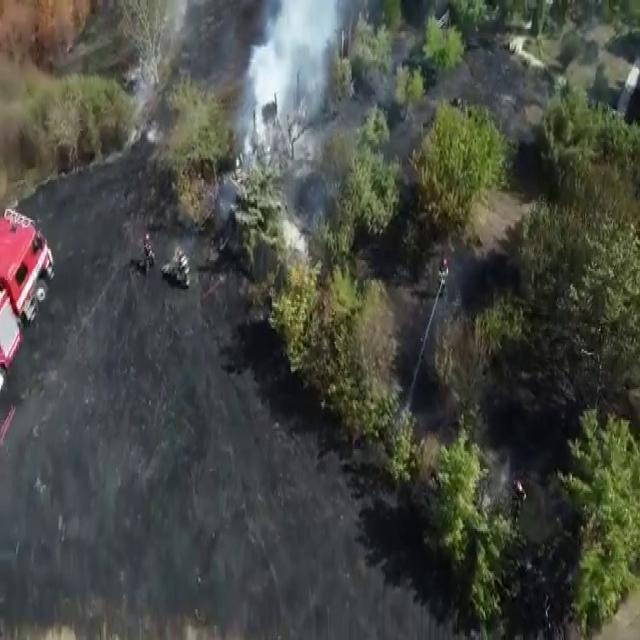smoke: (240, 0, 367, 165)
